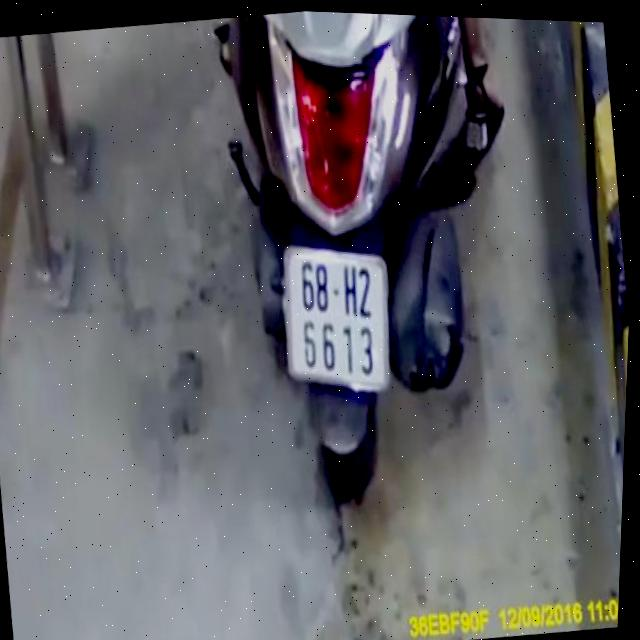motorcycle: (196, 8, 520, 535)
plate: (266, 226, 409, 410)
